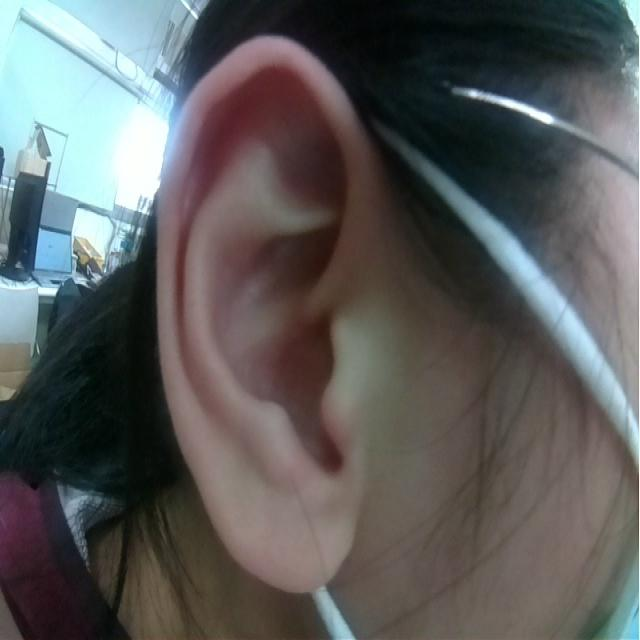no-earmuff: (155, 33, 366, 591)
